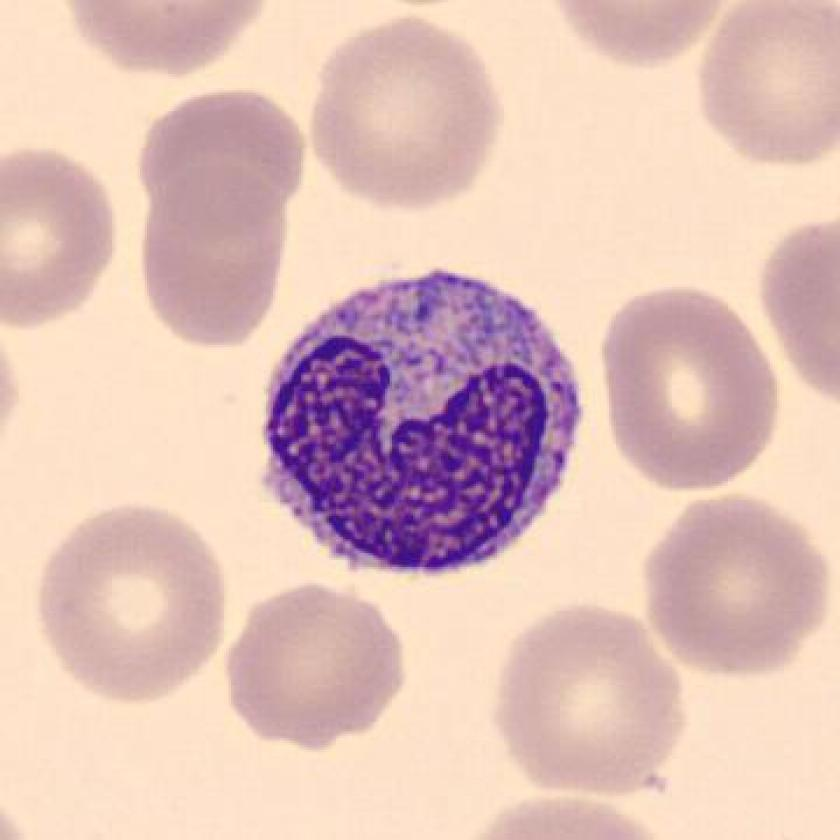monocyte: (244, 247, 598, 594)
